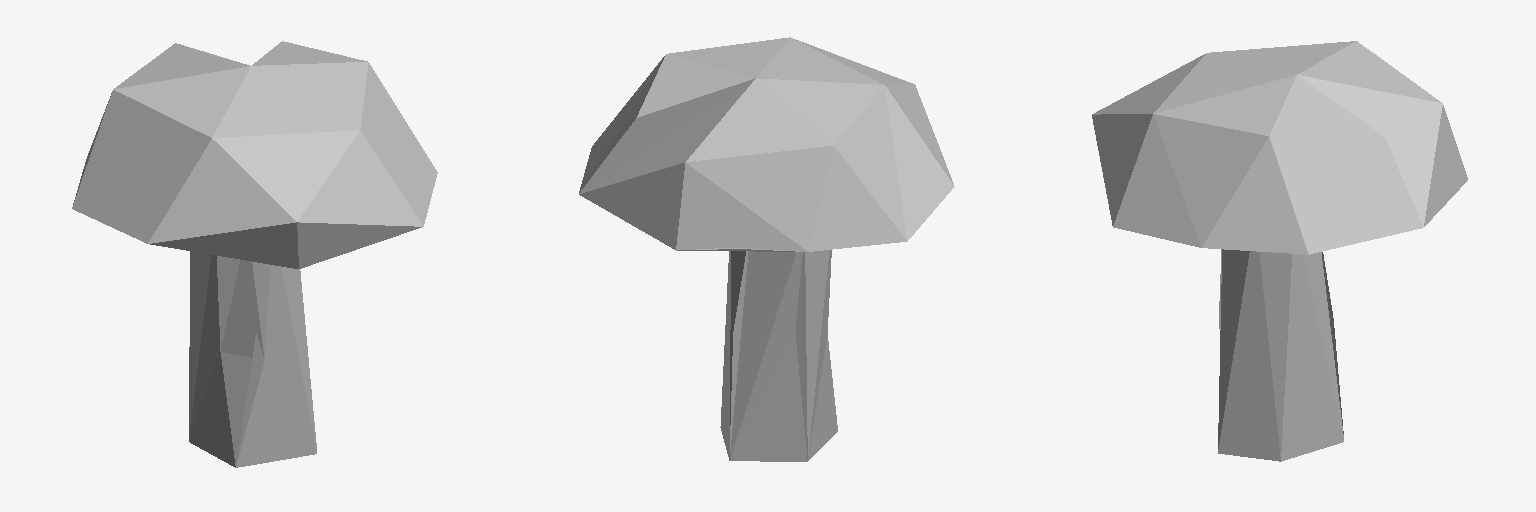
The model's file is mushroom02.obj.
3 renders of one model, left to right at view 1: azimuth 30°, elevation 25°; view 2: azimuth 150°, elevation 25°; view 3: azimuth 270°, elevation 25°, orthographic.
Visible parts, largest first — view 1: Cylinder; view 2: Cylinder; view 3: Cylinder.
Boxes of the visible parts, x1,y1,x2,y2 form: Cylinder: [72, 41, 437, 467]; Cylinder: [579, 37, 954, 461]; Cylinder: [1092, 41, 1467, 461].
Size of the model in its own units: 0.1174 by 0.1269 by 0.1184.